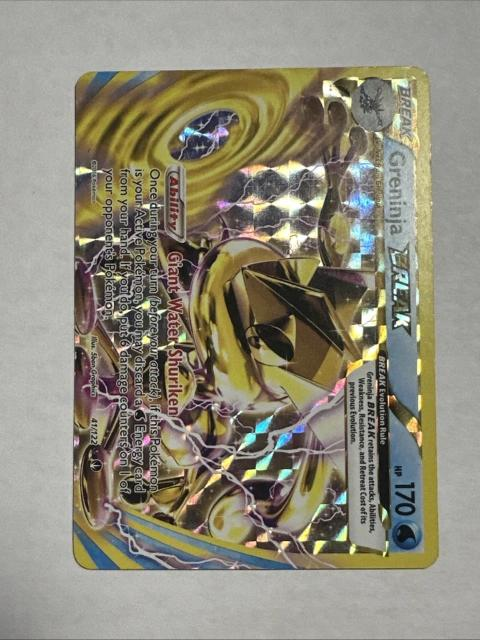Card: (70, 62, 442, 576)
Name: (384, 143, 415, 350)
